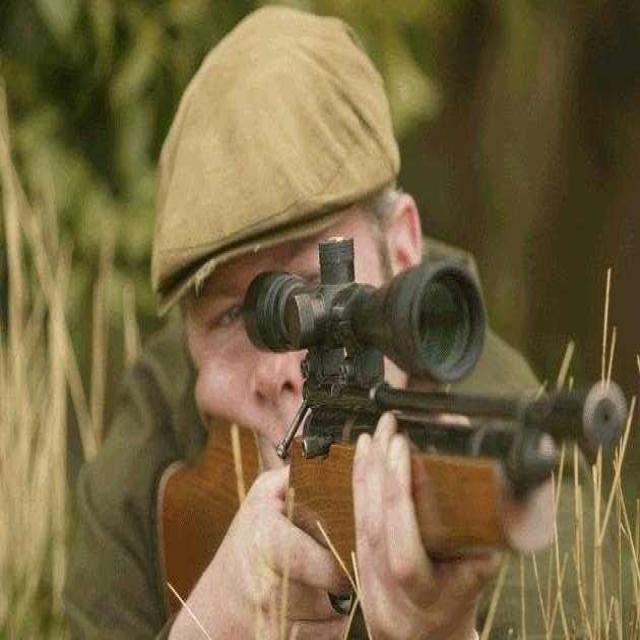heavyweapon: (137, 220, 638, 640)
